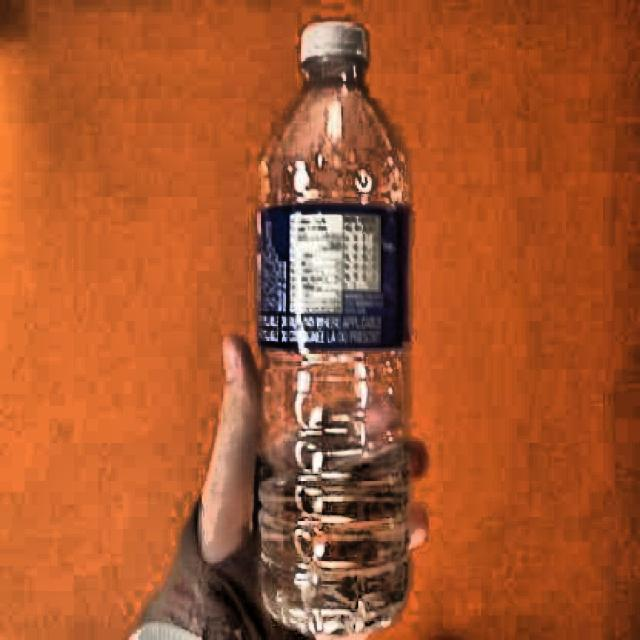Bottles: (248, 17, 427, 640)
